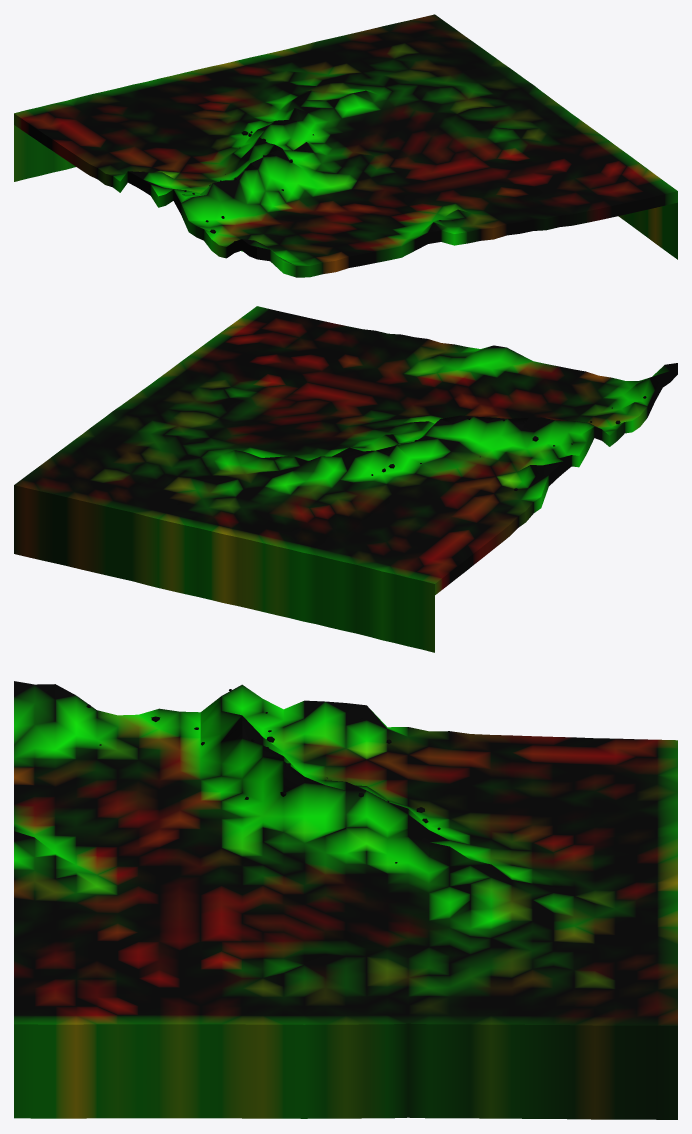
Rendered from Terrain_00_00.fbx.
3 views of the same model, one above another, from view 1: azimuth 30°, elevation 25°; view 2: azimuth 150°, elevation 25°; view 3: azimuth 270°, elevation 25° (orthographic). The views are drawn at different scales.
Visible parts, largest first — view 1: Terrain_00_00_LOD0; view 2: Terrain_00_00_LOD0; view 3: Terrain_00_00_LOD0.
Boxes of the visible parts, left/top/right/bottom form: Terrain_00_00_LOD0: left=14, top=14, right=677, bottom=277; Terrain_00_00_LOD0: left=14, top=306, right=677, bottom=652; Terrain_00_00_LOD0: left=14, top=681, right=677, bottom=1119.
Size of what is drawn, in the model's own units: 384 by 101 by 384.
